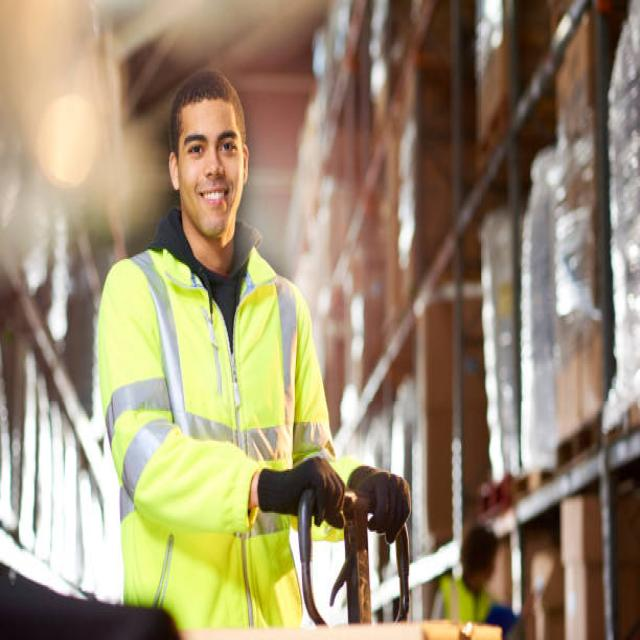Gloves: (254, 451, 347, 531), (344, 457, 413, 549)
Vest: (89, 208, 376, 640), (440, 576, 498, 624)
person: (87, 60, 414, 640), (428, 524, 538, 640)
